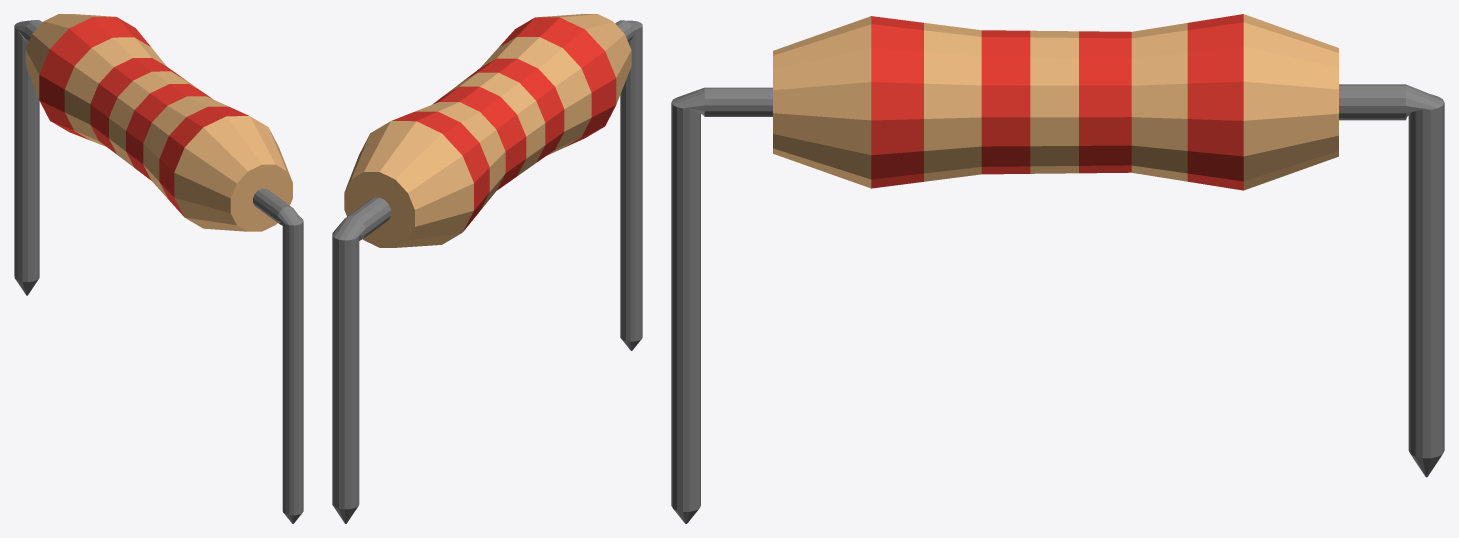
The model's file is resistor2.fbx.
3 views of the same model, side by side, from view 1: azimuth 30°, elevation 25°; view 2: azimuth 150°, elevation 25°; view 3: azimuth 270°, elevation 25° (orthographic). The views are drawn at different scales.
Visible parts, largest first — view 1: Cylinder.001; view 2: Cylinder.001; view 3: Cylinder.001.
Part boxes in pixels (x1,y1,x2,y2): Cylinder.001: [14, 14, 303, 523]; Cylinder.001: [332, 14, 642, 523]; Cylinder.001: [671, 14, 1444, 523].
Size of the model in its own units: 37.42 by 120 by 168.
